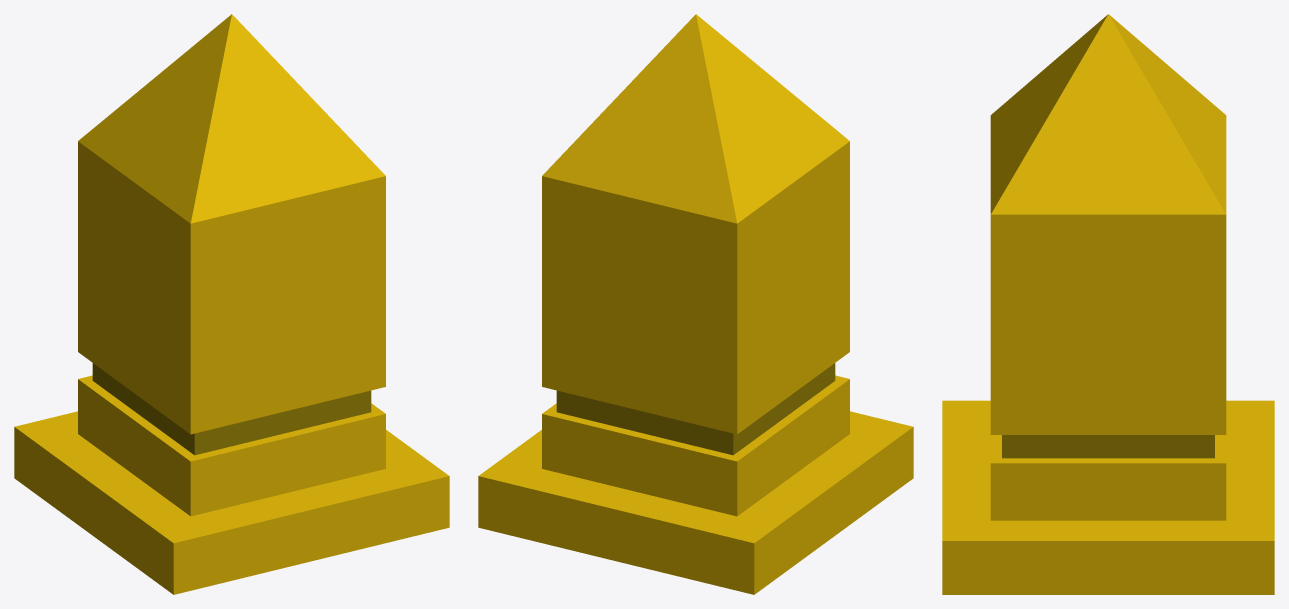
File: Bullet.fbx
The picture shows the model from 3 angles, left to right: view 1: azimuth 30°, elevation 25°; view 2: azimuth 150°, elevation 25°; view 3: azimuth 270°, elevation 25°; orthographic projection. The views are drawn at different scales.
Visible parts, largest first — view 1: Cube; view 2: Cube; view 3: Cube.
Boxes of the visible parts, x1,y1,x2,y2 form: Cube: [14, 14, 449, 594]; Cube: [478, 14, 913, 594]; Cube: [942, 14, 1274, 594].
Size of the model in its own units: 26.1 by 44.22 by 26.1.
